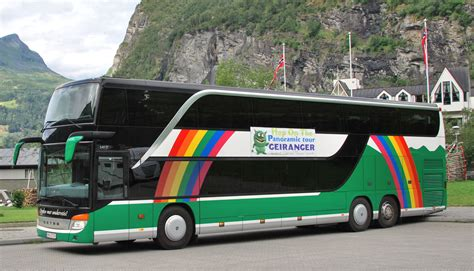bus: (37, 81, 447, 246)
